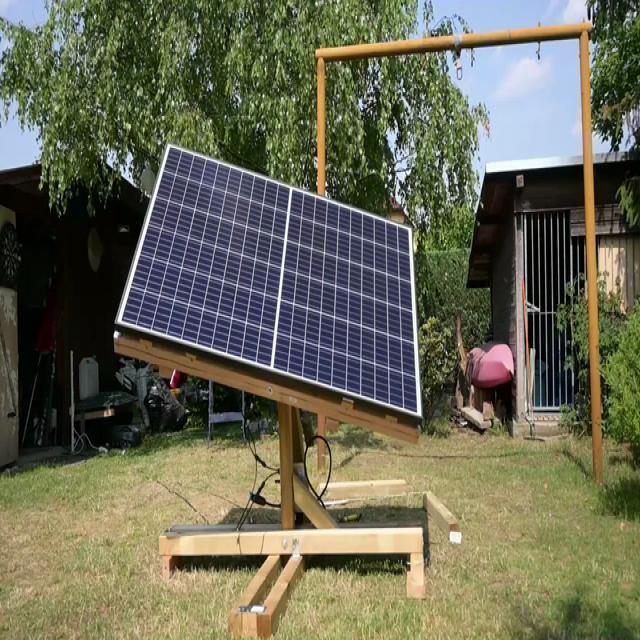Normal Solar Panel: (116, 145, 421, 415)
